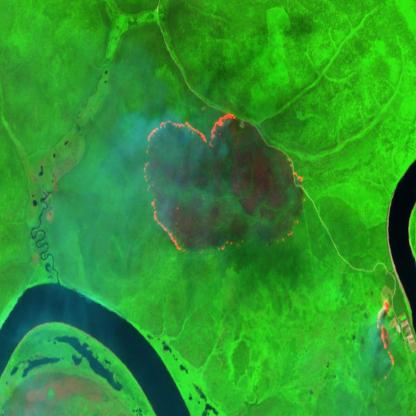fire: (142, 106, 236, 255), (374, 298, 397, 382)
